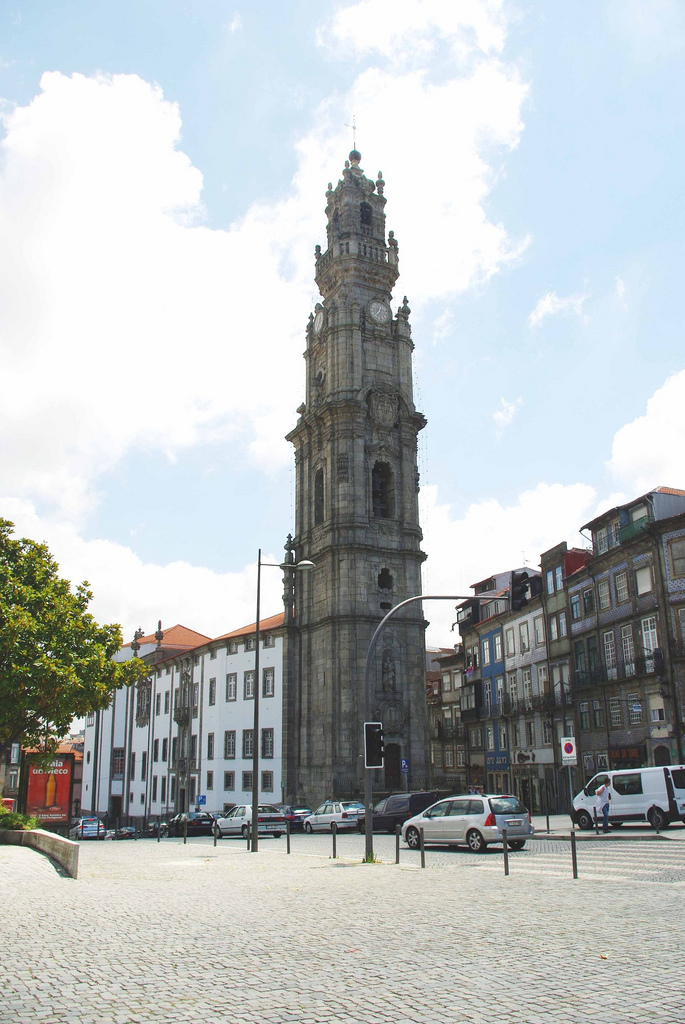clerigos: (282, 117, 430, 805)
